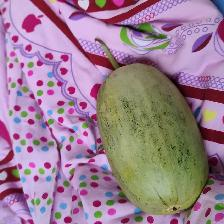gua: (92, 45, 202, 207)
